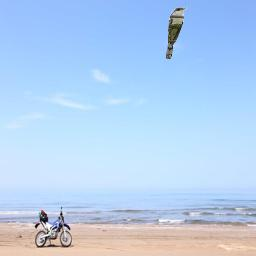Cuckoo: (166, 7, 187, 59)
